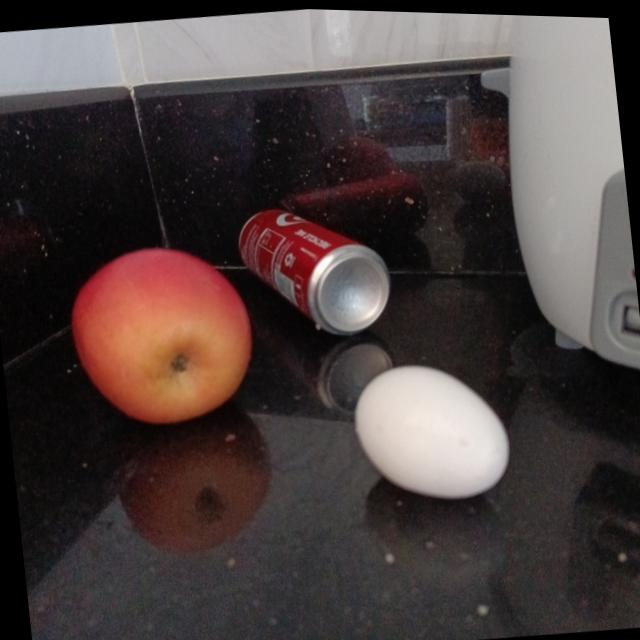apple: (65, 237, 258, 429)
coke: (238, 193, 394, 344)
egg: (352, 351, 512, 504)
